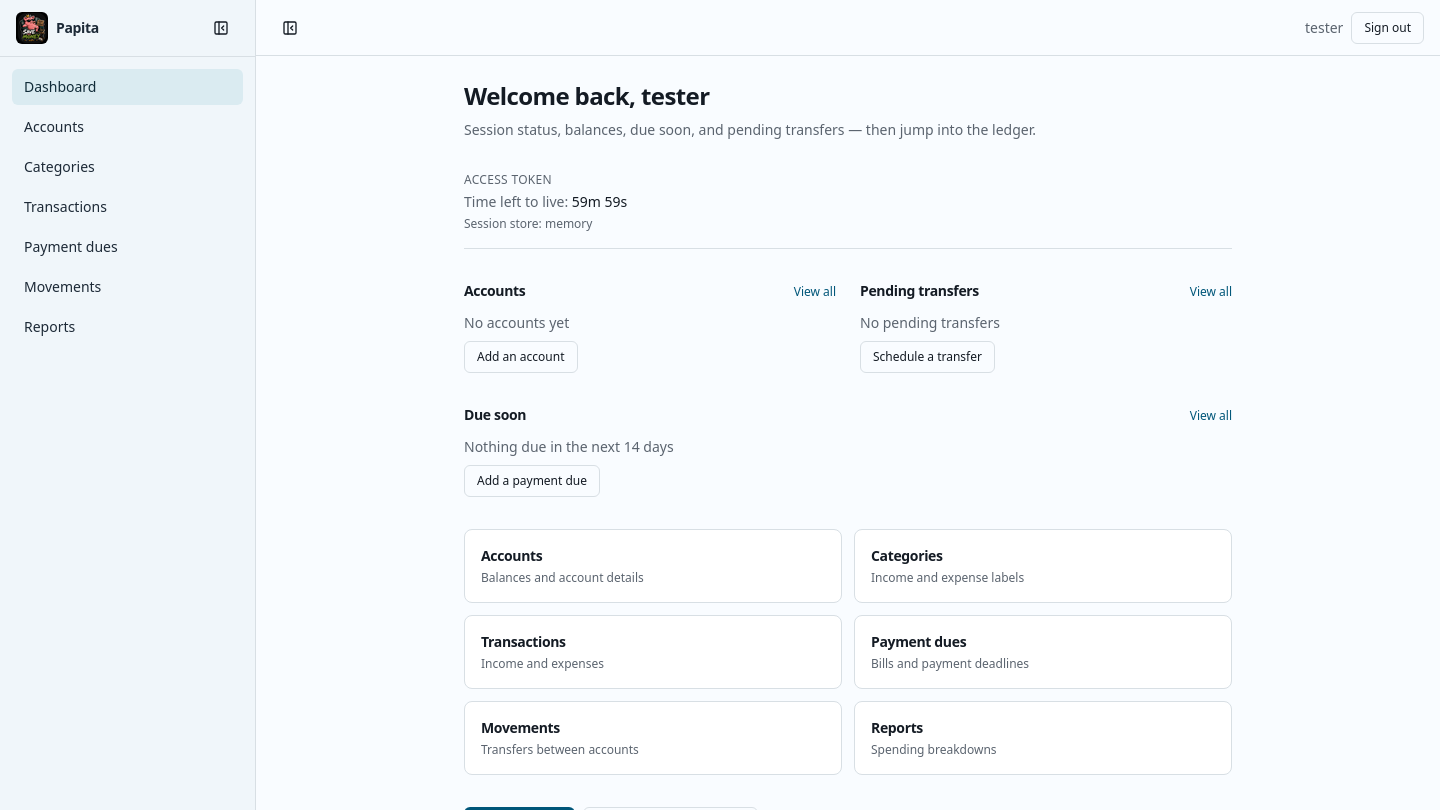
Test case: AppLayout › renders nav landmarks and navigates between stub routes
This screenshot has width=1440, height=810.
Check: the heading "Welcome back, tester" is shown, box left=464, top=79, right=709, bottom=112
Check: the text with test id "session-user-chip" reads "tester", box left=1305, top=18, right=1343, bottom=36
Click the link "Accounts": (54, 126) left=24, top=117, right=84, bottom=136
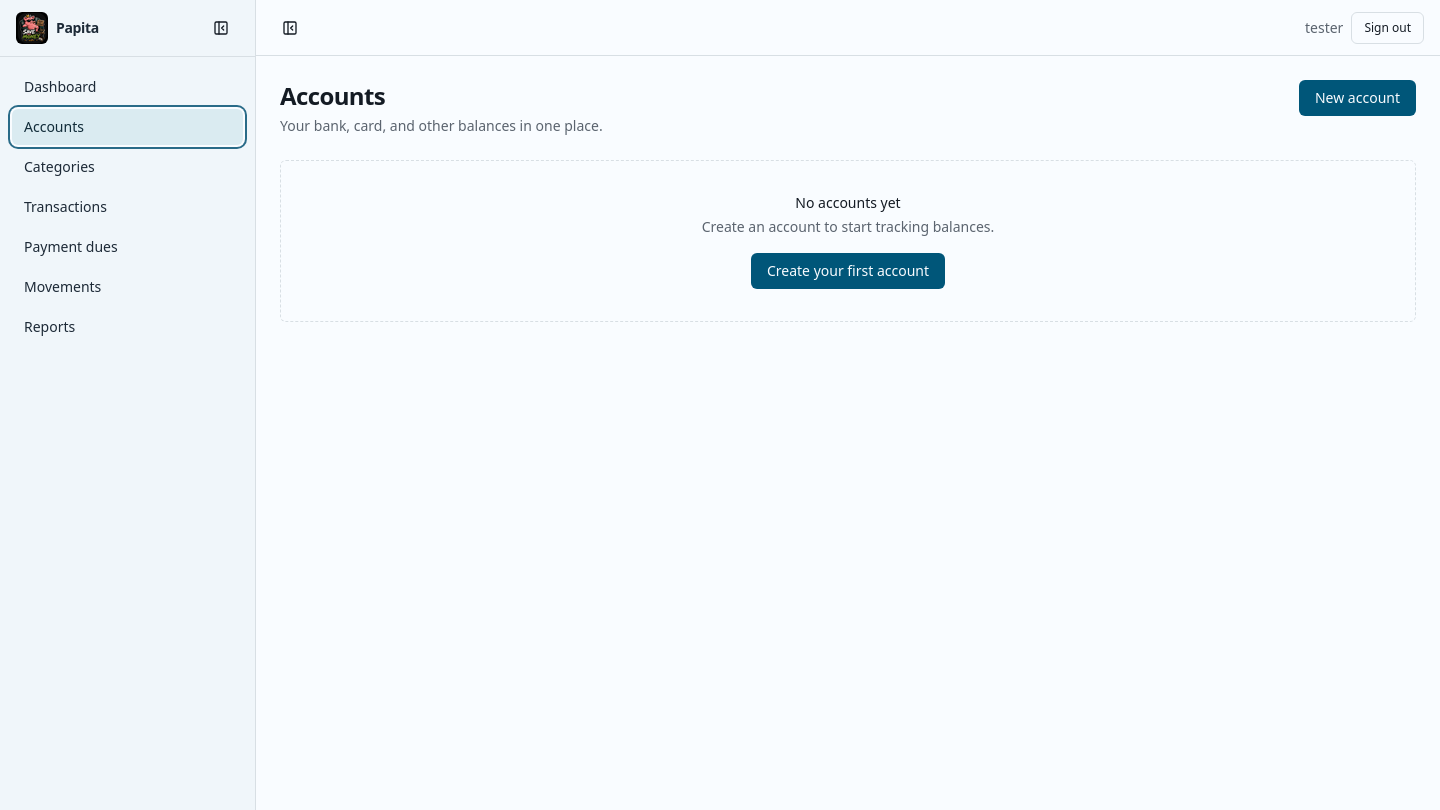
Check: the heading "Accounts" is shown, box left=280, top=79, right=385, bottom=112
